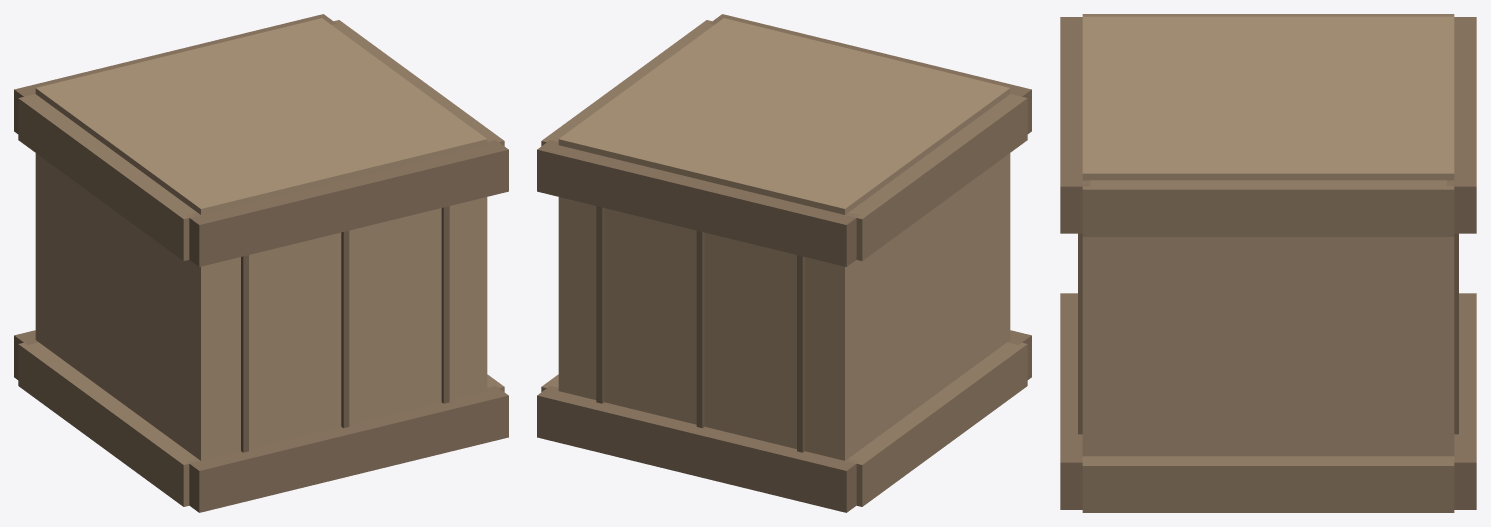
The picture shows the model from 3 angles, left to right: view 1: azimuth 30°, elevation 25°; view 2: azimuth 150°, elevation 25°; view 3: azimuth 270°, elevation 25°; orthographic projection. The views are drawn at different scales.
Parts seen in each view (by area): view 1: model-crate; view 2: model-crate; view 3: model-crate.
Boxes of the visible parts, bbox=[...] form: model-crate: bbox=[14, 14, 508, 512]; model-crate: bbox=[537, 14, 1031, 512]; model-crate: bbox=[1060, 14, 1476, 512].
Size of the model in its own units: 1.12 by 1 by 1.12.
